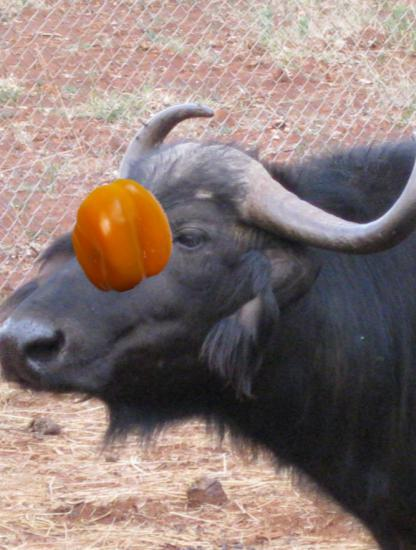Pepper: (66, 180, 177, 291)
